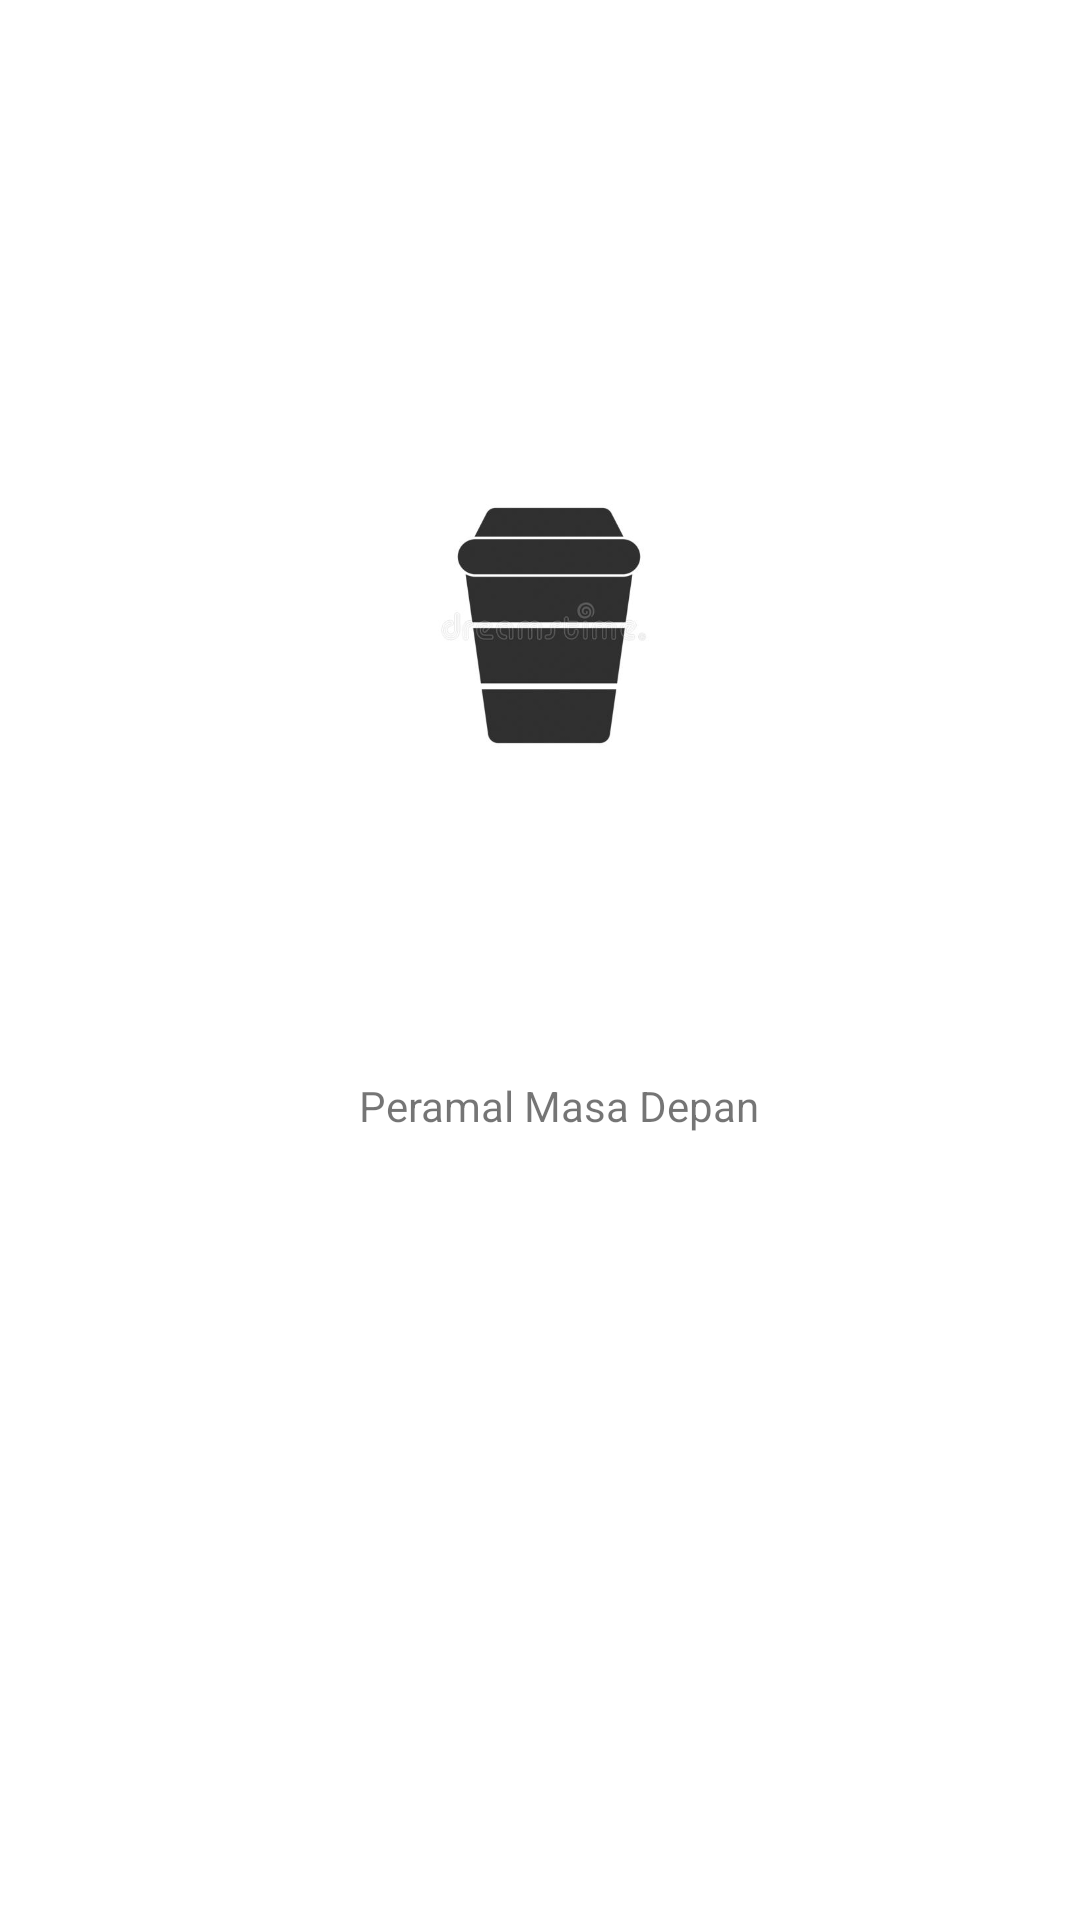

Icons on this 1080 x 1920 Android screen, each with its box as BBox(x1, y1, x2, y2):
cup: BBox(457, 507, 641, 744)
